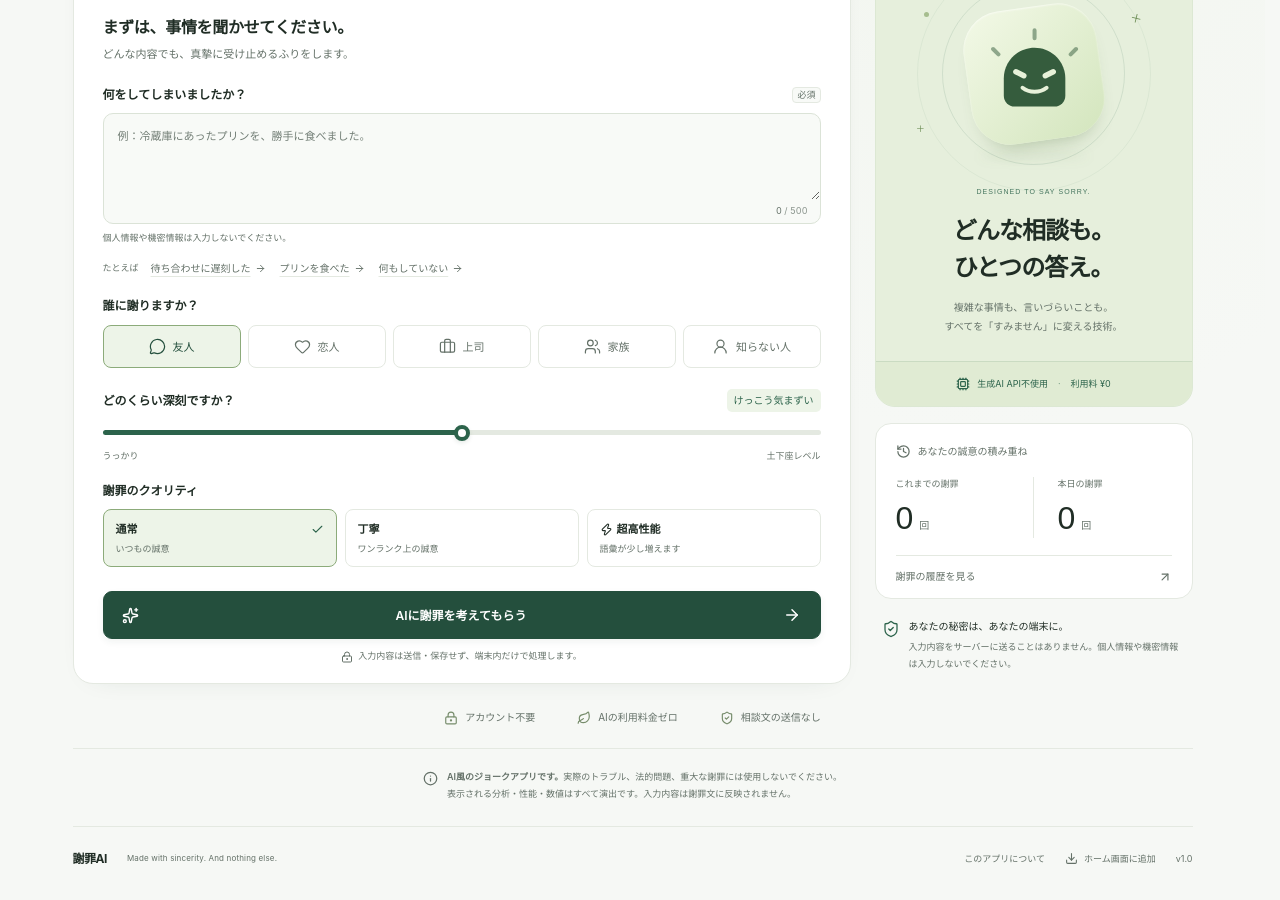
it: apology generation flow › uses the selected polite mode in the result, history, and event
The width and height of the screenshot is (1280, 900).
(page scrolled)
Click the radio button labelled "丁寧 ワンランク上の誠意": (462, 538) [344,510,578,568]
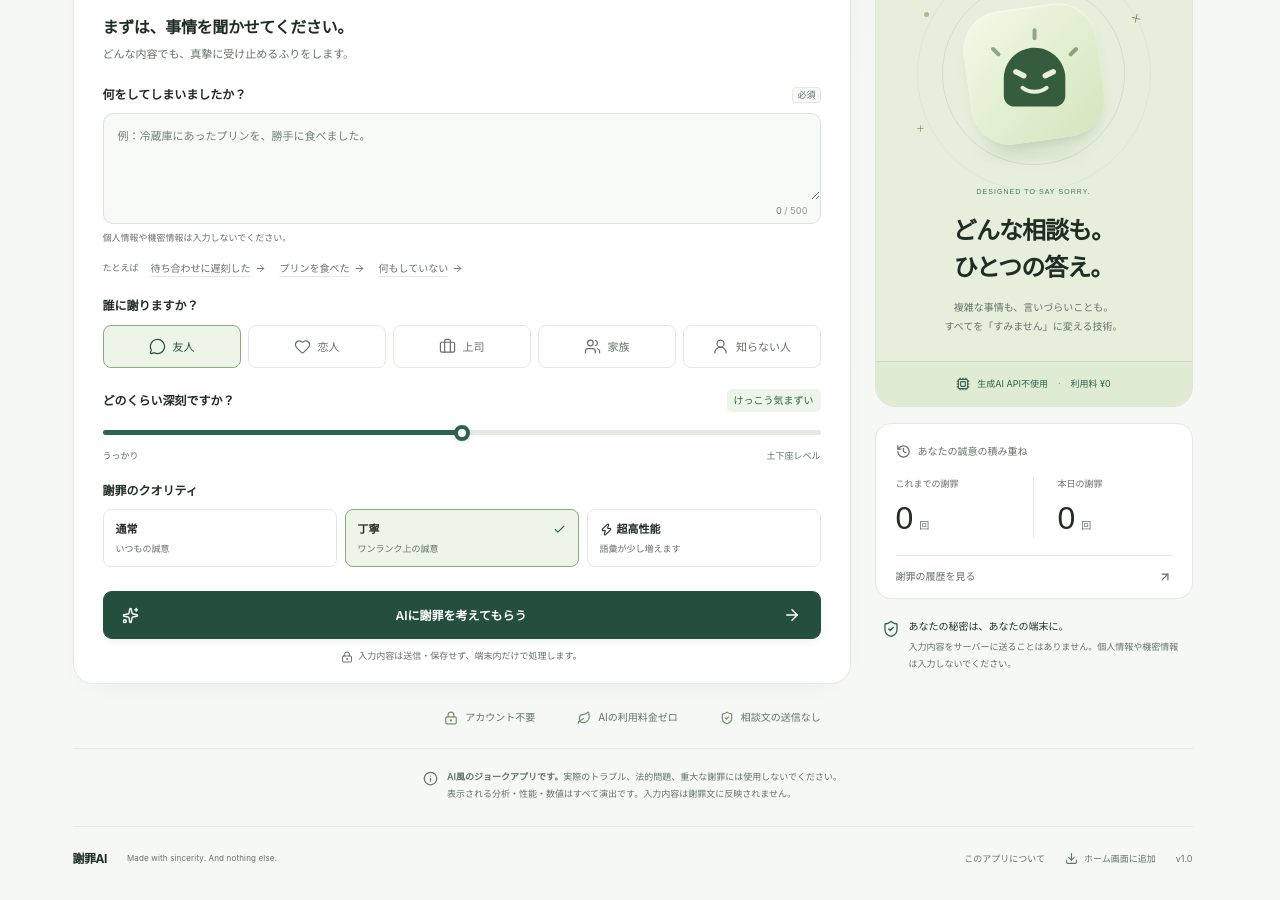
In the text box labelled "何をしてしまいましたか？": (462, 157) [104,114,820,200], type "むしろ褒めてもらいたいです"
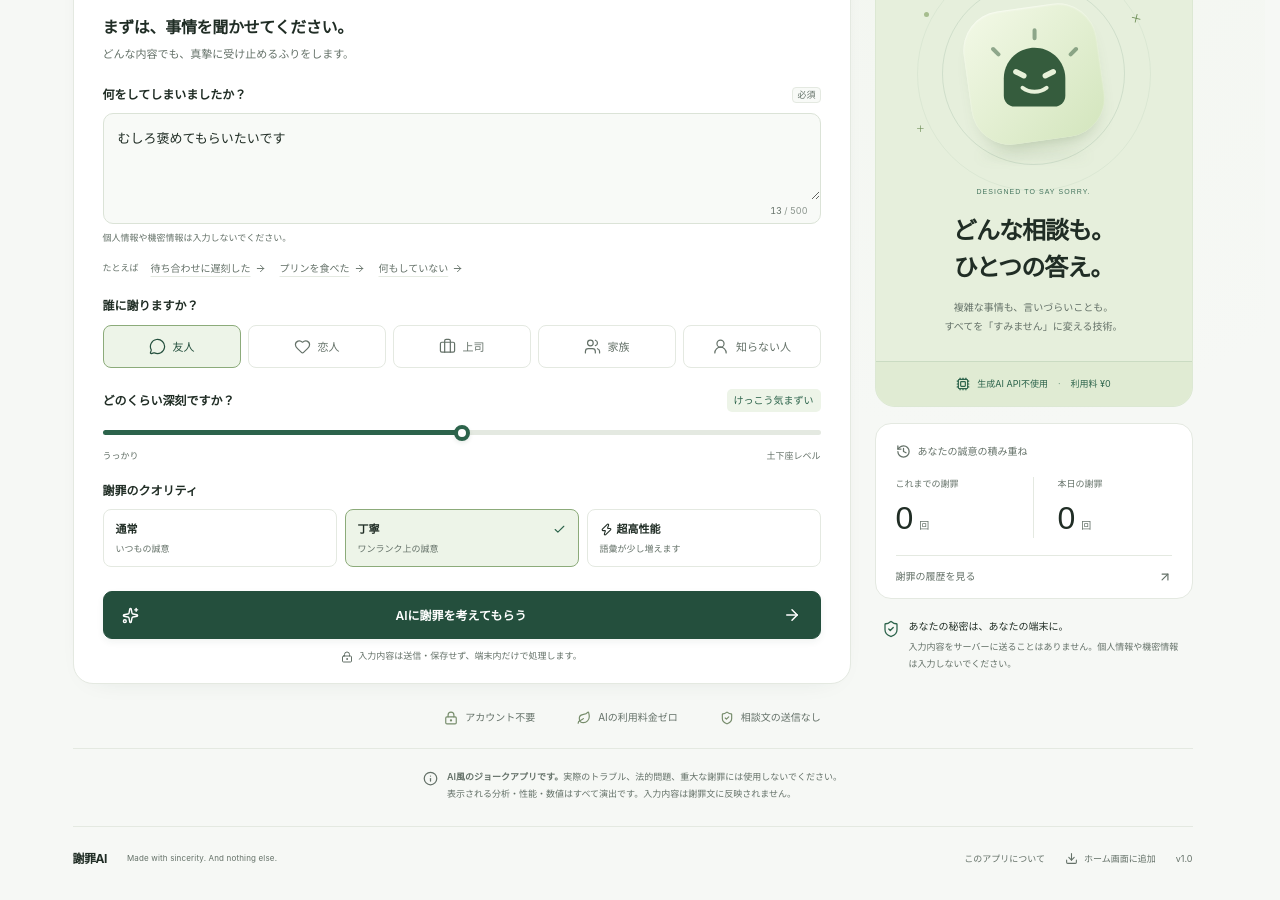
Click the button "AIに謝罪を考えてもらう": (462, 615) [102,591,820,639]
Wait 4350 ms
(page scrolled)
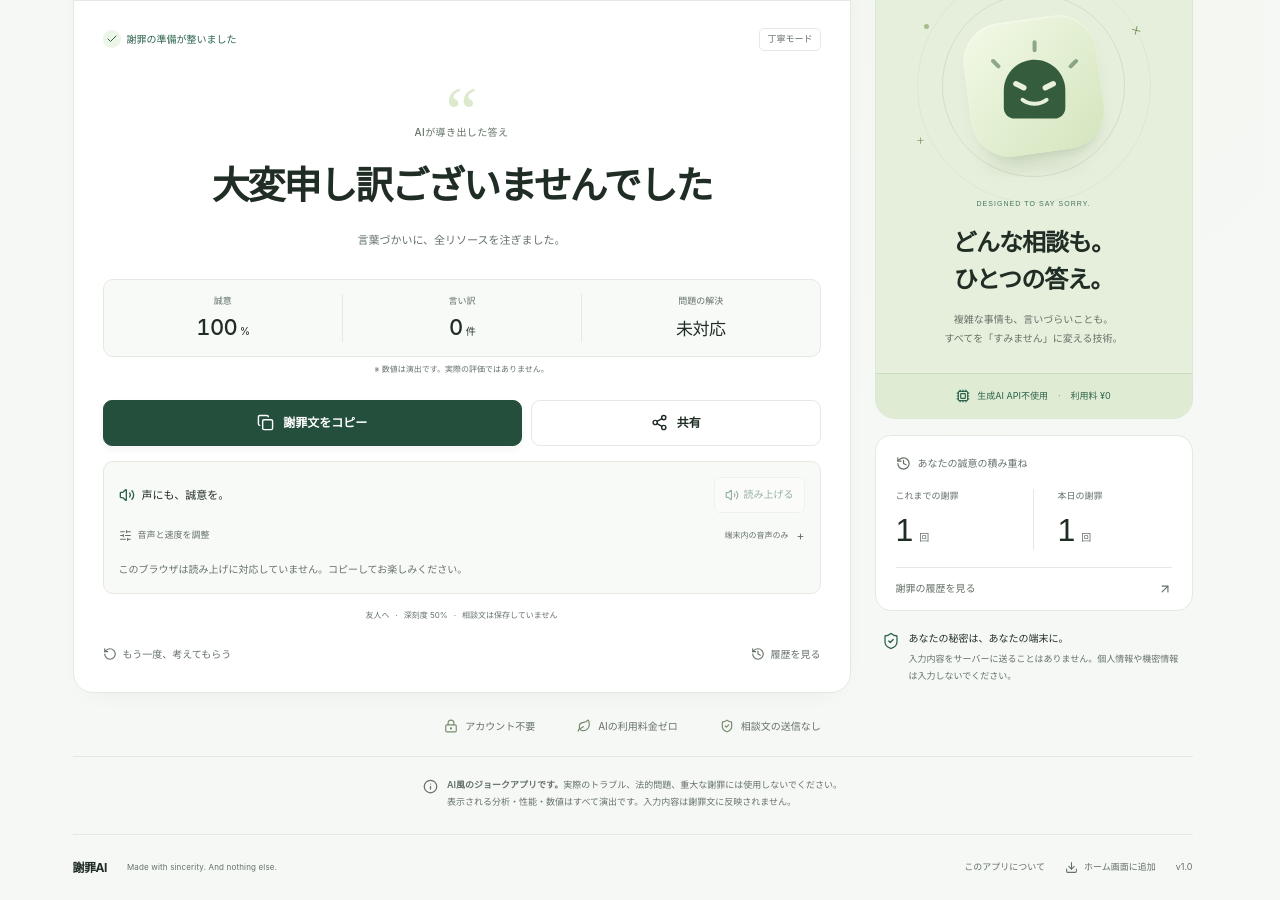
Result: the text with test id "apology-output" reads "大変申し訳ございませんでした" at [212,162,711,208]
